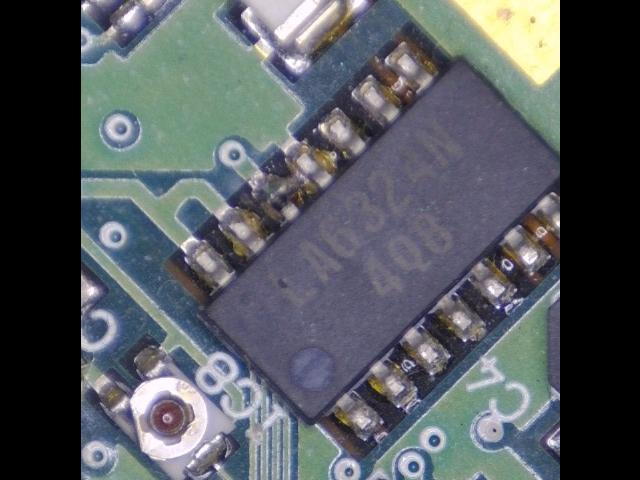Short_circuit: (252, 143, 335, 223)
